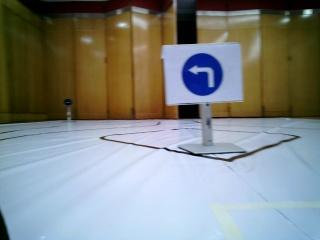left: (169, 46, 244, 100)
